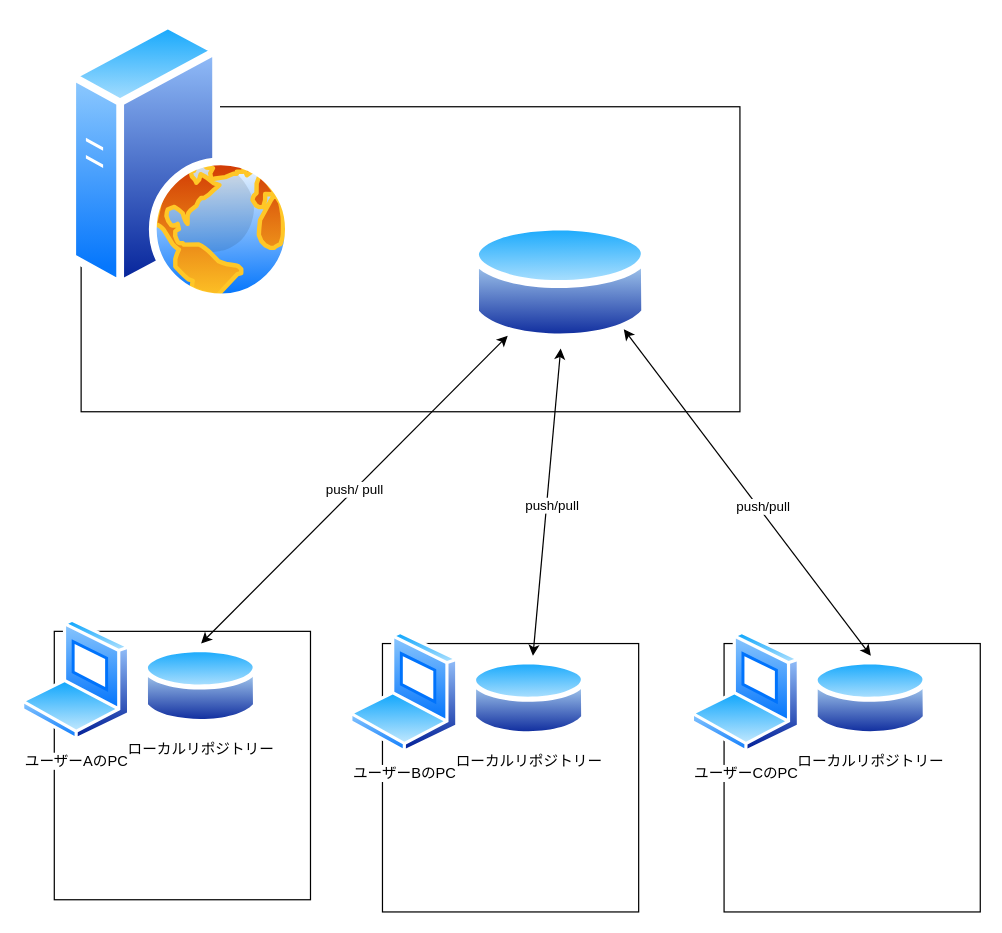
This 1002x933 diagram has some shape labels left out. The centre of each missing label's shape, as x and y in pixels:
"サーバー" goes at pixel 180 161.
"リモートリポジトリー" goes at pixel 560 282.
